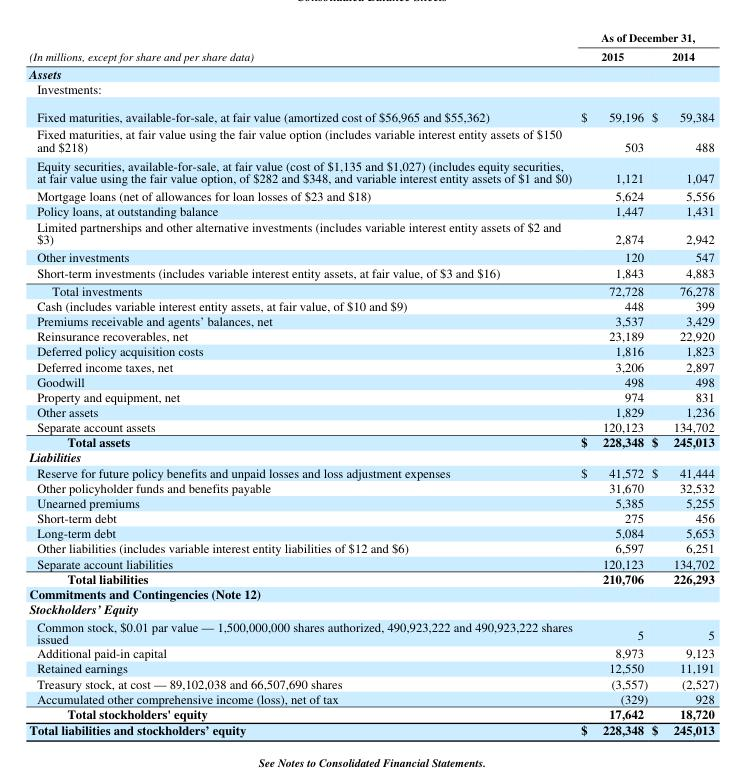table: (28, 29, 717, 738)
table column: (28, 29, 576, 738), (576, 29, 649, 738), (649, 29, 717, 738)
table column header: (28, 29, 717, 64)
table projected row header: (28, 80, 717, 101), (28, 64, 717, 80), (28, 585, 717, 601), (28, 601, 717, 617), (28, 449, 717, 464)
table row: (28, 124, 717, 155), (28, 155, 717, 186), (28, 218, 717, 247), (28, 617, 717, 645), (28, 101, 717, 124), (28, 80, 717, 101), (28, 46, 717, 64), (28, 29, 717, 46), (28, 247, 717, 264), (28, 264, 717, 281), (28, 721, 717, 738), (28, 64, 717, 80), (28, 186, 717, 202), (28, 202, 717, 218), (28, 281, 717, 297), (28, 327, 717, 343), (28, 433, 717, 449), (28, 539, 717, 555), (28, 585, 717, 601), (28, 601, 717, 617), (28, 659, 717, 675), (28, 705, 717, 721), (28, 297, 717, 312), (28, 312, 717, 327), (28, 343, 717, 358), (28, 358, 717, 373), (28, 373, 717, 388), (28, 388, 717, 403), (28, 403, 717, 418), (28, 418, 717, 433), (28, 449, 717, 464), (28, 464, 717, 479), (28, 479, 717, 494), (28, 494, 717, 509), (28, 509, 717, 524), (28, 524, 717, 539), (28, 555, 717, 570), (28, 570, 717, 585), (28, 675, 717, 690), (28, 690, 717, 705), (28, 645, 717, 659)
table spanning cell: (28, 29, 576, 64), (576, 29, 717, 46)
